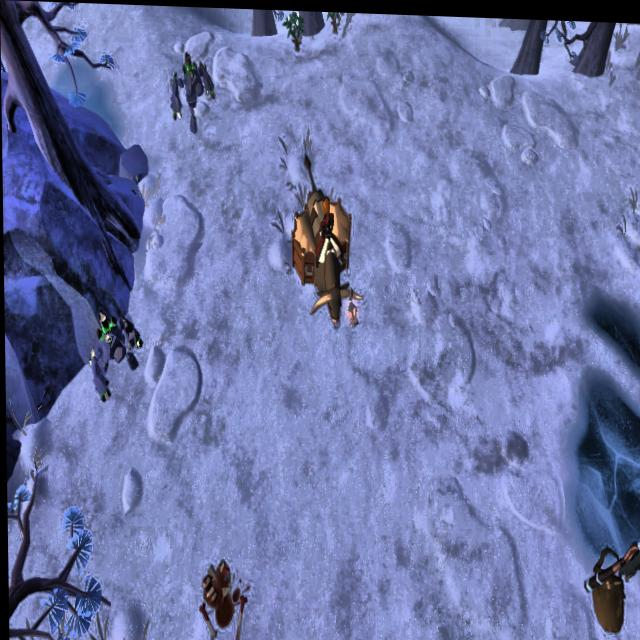fiber_t3: (283, 11, 306, 48)
